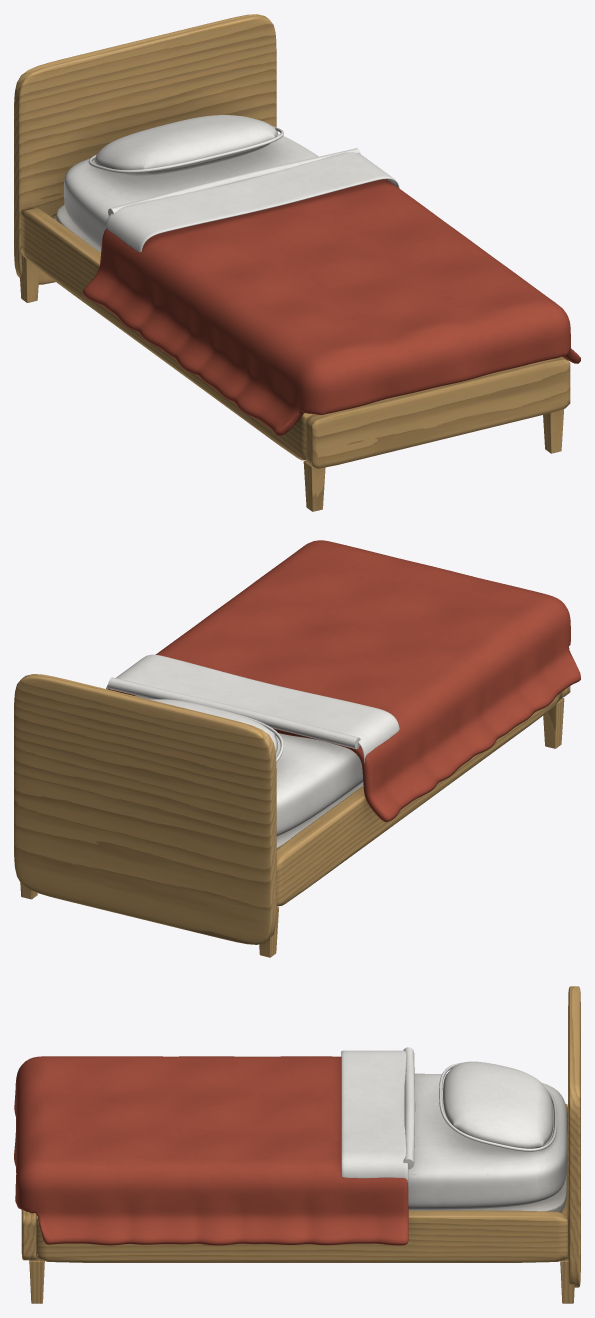
Rendered from pine-single.glb.
3 views of the same model, one above another, from view 1: azimuth 30°, elevation 25°; view 2: azimuth 150°, elevation 25°; view 3: azimuth 270°, elevation 25° (orthographic). The views are drawn at different scales.
Visible parts, largest first — view 1: fabric_secondary_duvet, wood_h, sheet_cotton, pillow_fabric, wood_hy, wood_v; view 2: fabric_secondary_duvet, wood_h, sheet_cotton, wood_hy, wood_v, pillow_fabric, mattress_ticking; view 3: fabric_secondary_duvet, sheet_cotton, wood_hy, pillow_fabric, wood_h, wood_v, mattress_ticking.
Part boxes in pixels (x1,y1,x2,y2): fabric_secondary_duvet: [82, 179, 580, 436]; wood_h: [14, 14, 570, 468]; sheet_cotton: [64, 133, 399, 252]; pillow_fabric: [88, 115, 283, 175]; wood_hy: [21, 208, 314, 460]; wood_v: [20, 254, 563, 511]; fabric_secondary_duvet: [108, 540, 580, 822]; wood_h: [14, 651, 570, 944]; sheet_cotton: [106, 654, 399, 835]; wood_hy: [276, 692, 561, 906]; wood_v: [20, 698, 564, 957]; pillow_fabric: [150, 699, 283, 762]; mattress_ticking: [276, 782, 363, 848]; fabric_secondary_duvet: [14, 1056, 408, 1245]; sheet_cotton: [341, 1047, 567, 1209]; wood_hy: [37, 1104, 567, 1262]; pillow_fabric: [439, 1061, 556, 1151]; wood_h: [21, 986, 580, 1287]; wood_v: [29, 1255, 574, 1303]; mattress_ticking: [408, 1174, 566, 1212].
Bounding box in the file's own units: 1.28 × 0.9 × 2.19.
7 materials, 7 textured.
